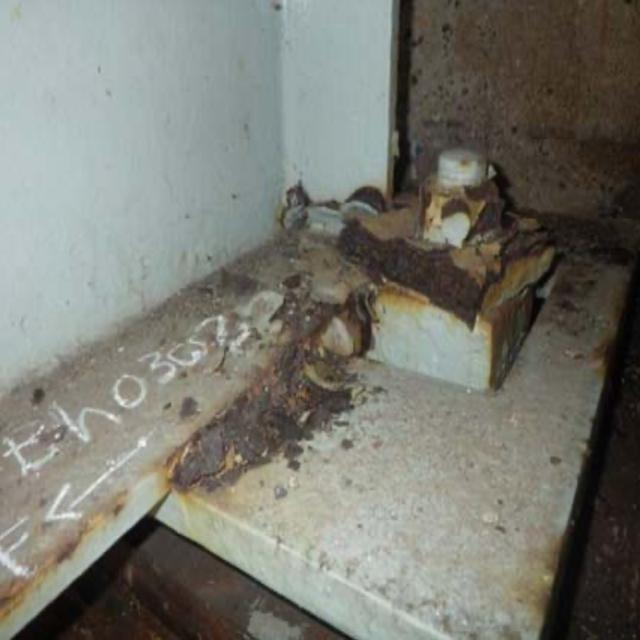corrosion: (180, 127, 561, 503)
